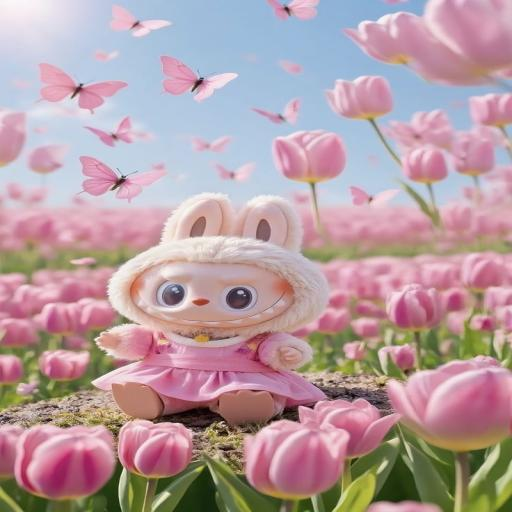labubu: (131, 202, 316, 410)
